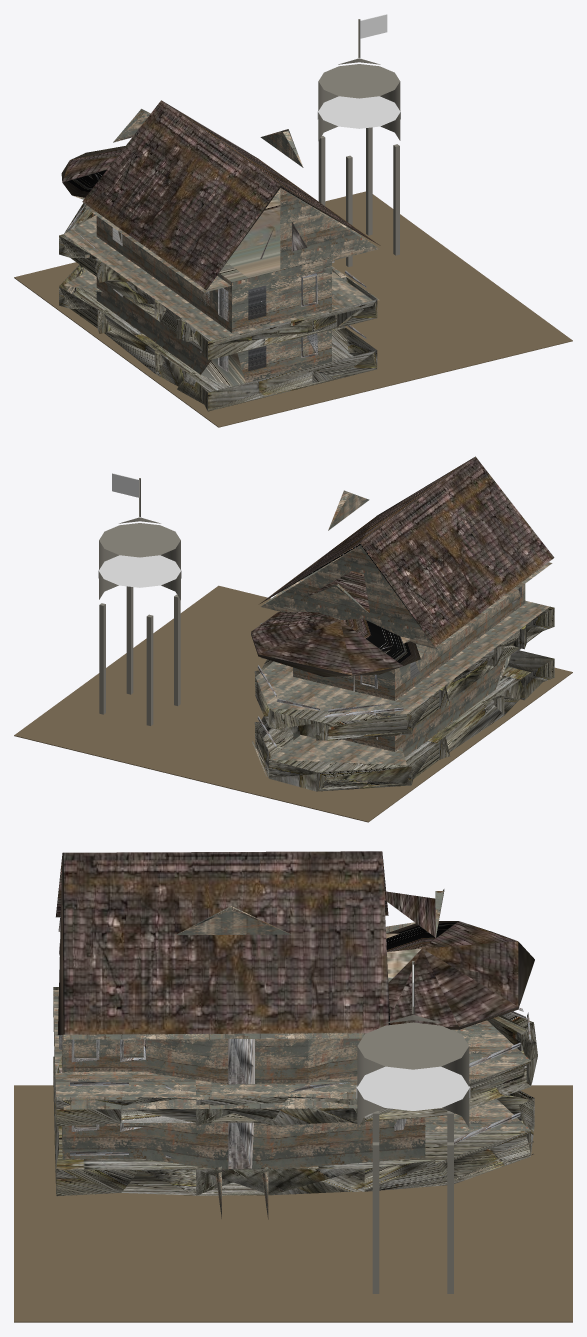
3 views of the same model, one above another, from view 1: azimuth 30°, elevation 25°; view 2: azimuth 150°, elevation 25°; view 3: azimuth 270°, elevation 25° (orthographic). The views are drawn at different scales.
Visible parts, largest first — view 1: dweller_building_hq; view 2: dweller_building_hq; view 3: dweller_building_hq.
Part boxes in pixels (x1=…): dweller_building_hq: x1=14, y1=14, x2=572, y2=427; dweller_building_hq: x1=14, y1=456, x2=572, y2=822; dweller_building_hq: x1=14, y1=851, x2=572, y2=1322.
Bounding box in the file's own units: 21 × 13.1 × 21.
Materials: 7 (4 with a texture image).
